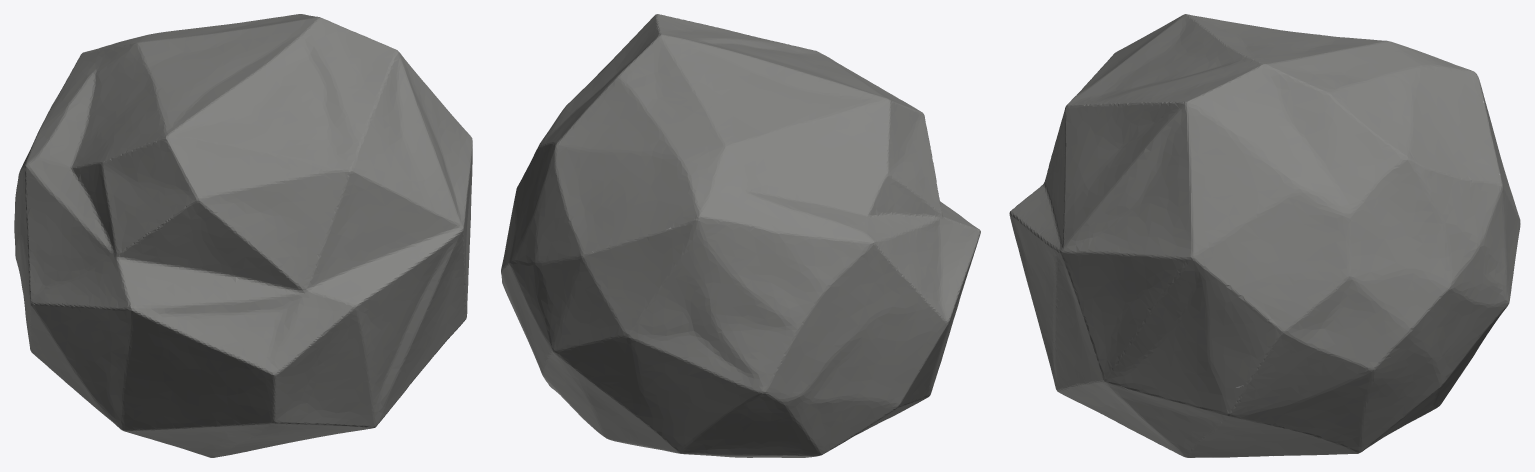
Rendered from Rock.fbx.
The picture shows the model from 3 angles, left to right: view 1: azimuth 30°, elevation 25°; view 2: azimuth 150°, elevation 25°; view 3: azimuth 270°, elevation 25°; orthographic projection. The views are drawn at different scales.
Parts seen in each view (by area): view 1: tmppuf42ce2.ply; view 2: tmppuf42ce2.ply; view 3: tmppuf42ce2.ply.
Boxes of the visible parts, x1,y1,x2,y2 form: tmppuf42ce2.ply: [14, 14, 472, 457]; tmppuf42ce2.ply: [501, 14, 980, 457]; tmppuf42ce2.ply: [1009, 14, 1520, 457].
Size of the model in its own units: 196 by 174 by 196.
